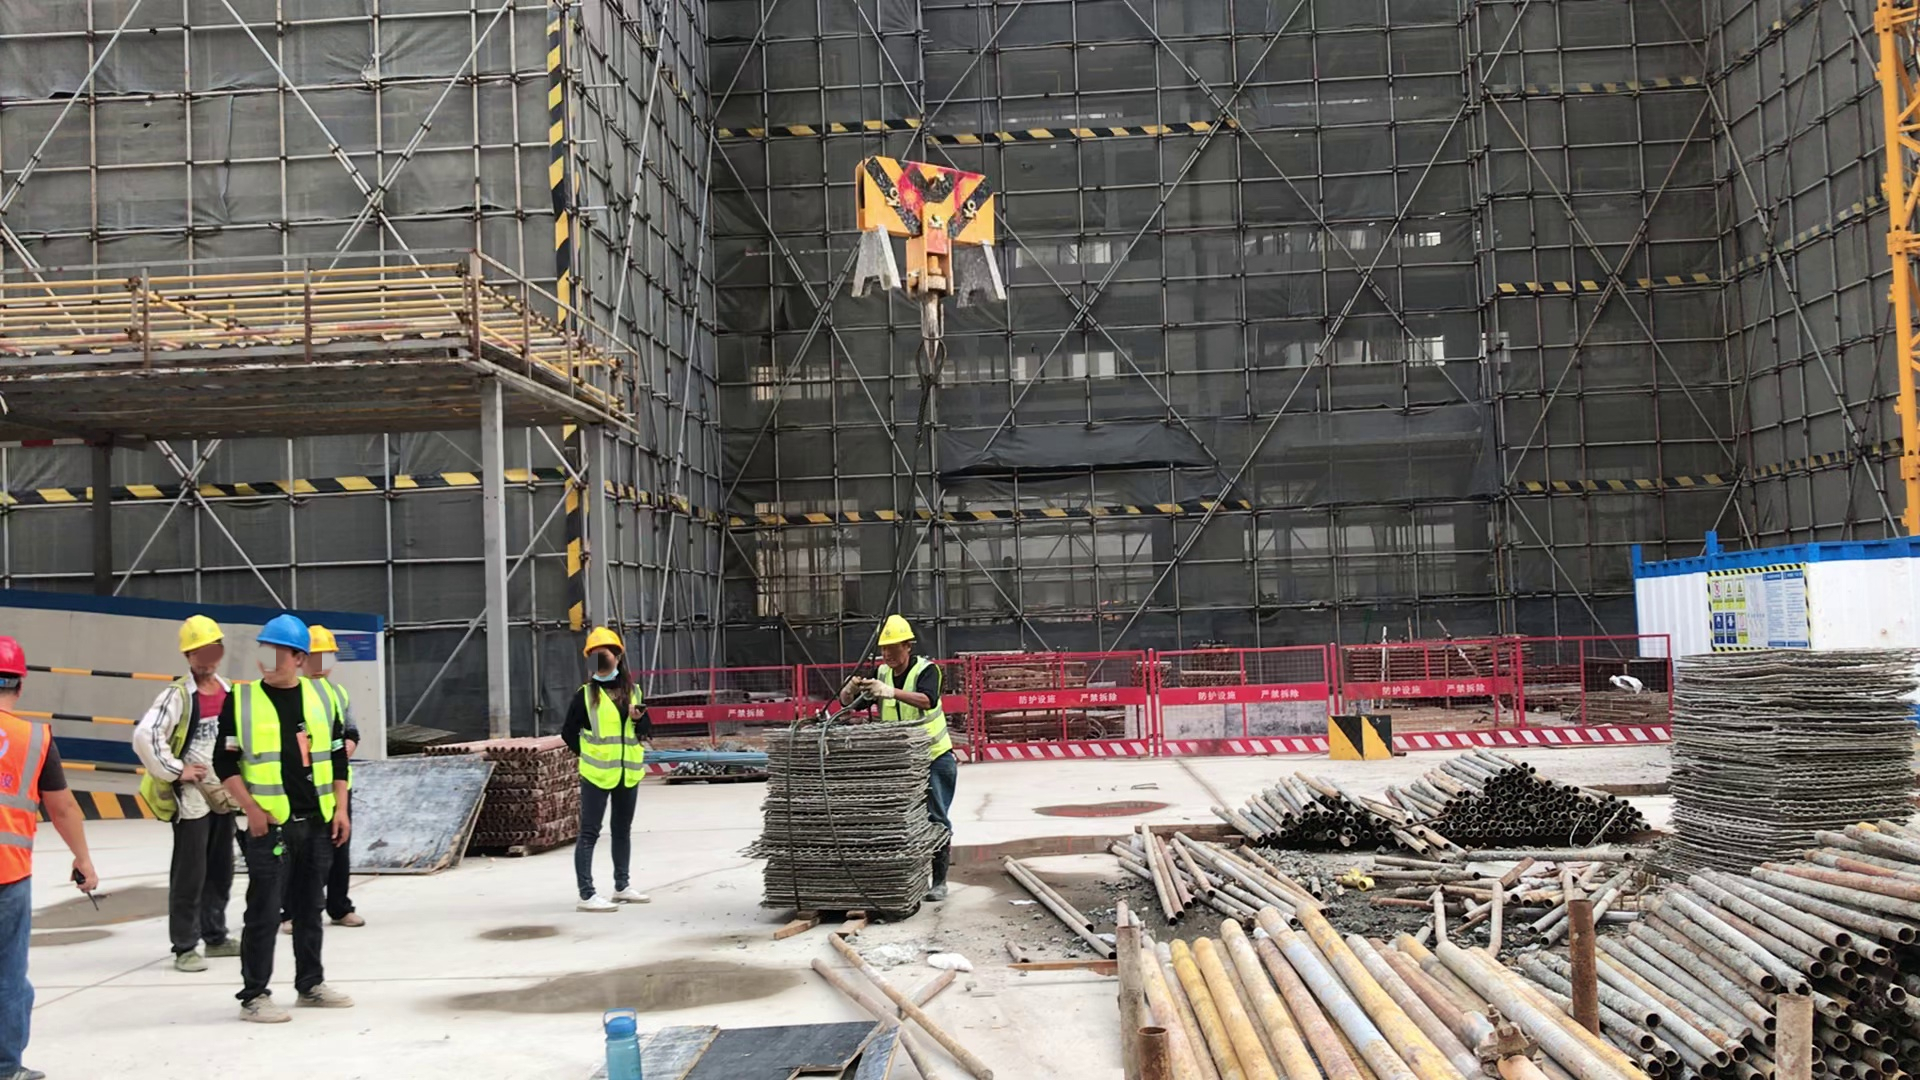fence: (642, 633, 1671, 781)
helmet: (255, 611, 312, 653), (178, 614, 223, 653), (579, 622, 623, 653), (879, 615, 916, 647), (308, 619, 340, 654)
hook: (846, 153, 1004, 365)
person: (217, 617, 357, 1023), (1, 639, 96, 1080), (134, 618, 247, 974), (839, 615, 955, 903), (563, 630, 651, 915), (287, 625, 366, 927)
scaffold: (1675, 658, 1919, 881), (766, 727, 936, 914), (475, 742, 573, 851)
vest: (227, 681, 336, 826), (1, 711, 51, 886), (878, 662, 954, 764), (581, 683, 642, 788)
